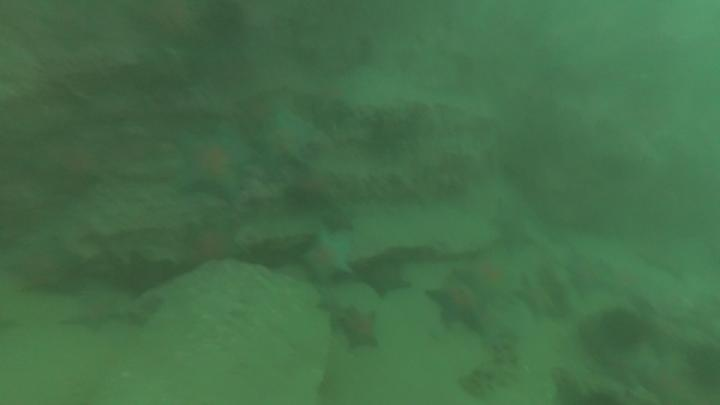echinus: (596, 304, 651, 353), (198, 1, 245, 41)
holothurian: (456, 343, 524, 399)
starfish: (168, 122, 258, 201), (13, 235, 89, 299), (253, 113, 318, 175), (421, 275, 488, 334), (456, 252, 521, 309), (185, 217, 247, 272), (301, 232, 359, 284), (509, 272, 565, 325), (332, 302, 383, 355), (356, 261, 417, 298), (57, 303, 123, 337), (318, 207, 358, 238)
